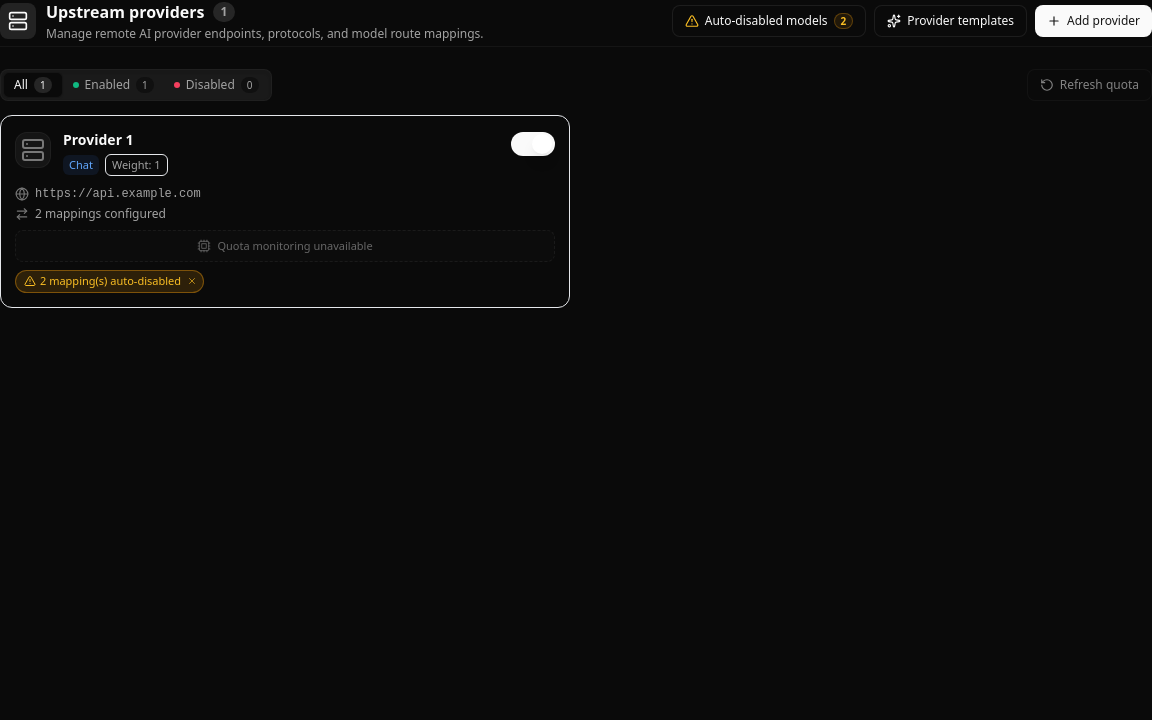
Auto-disabled models dialog entry › counts distinct local model ids and opens grouped sources
Step 1. Click the button with test id "ai-gateway-auto-disabled-models" → (769, 21), box left=672, top=5, right=866, bottom=37
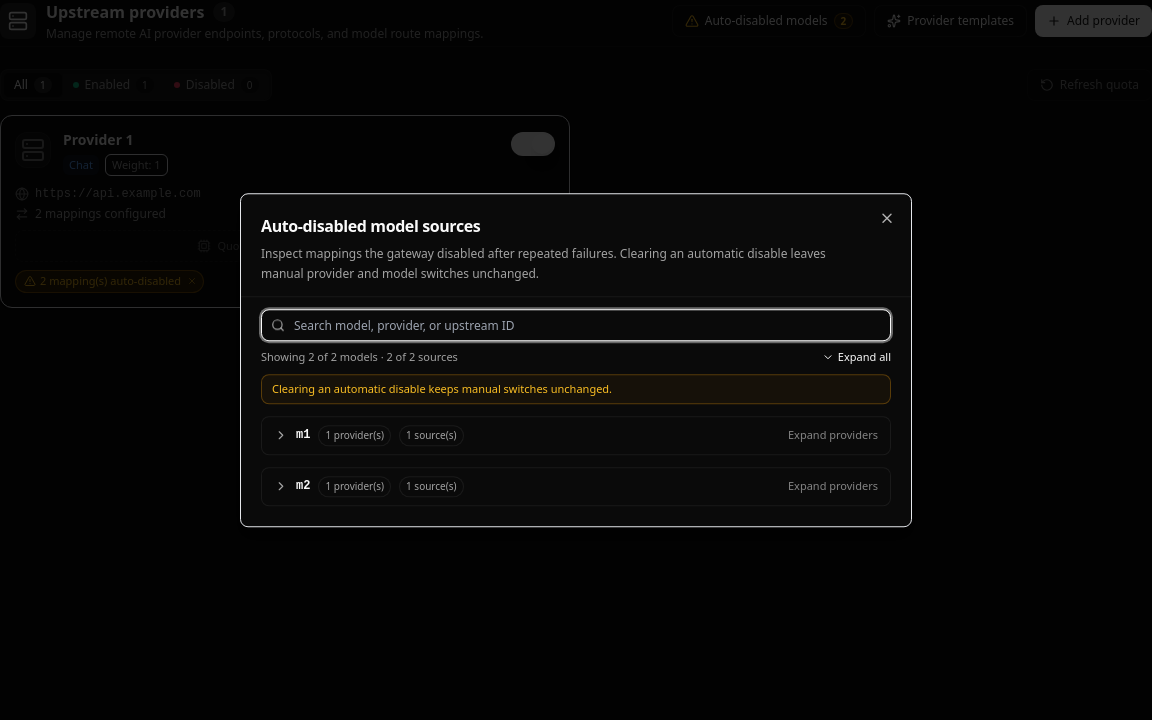
Result: the heading "m1" is shown at left=296, top=427, right=310, bottom=443
Result: the heading "m2" is shown at left=296, top=478, right=310, bottom=494
Expanding m1 reveals its sources and action
Step 2. Click the button with test id "ai-gateway-auto-disabled-model-toggle-m1" → (355, 435), box left=262, top=417, right=890, bottom=454
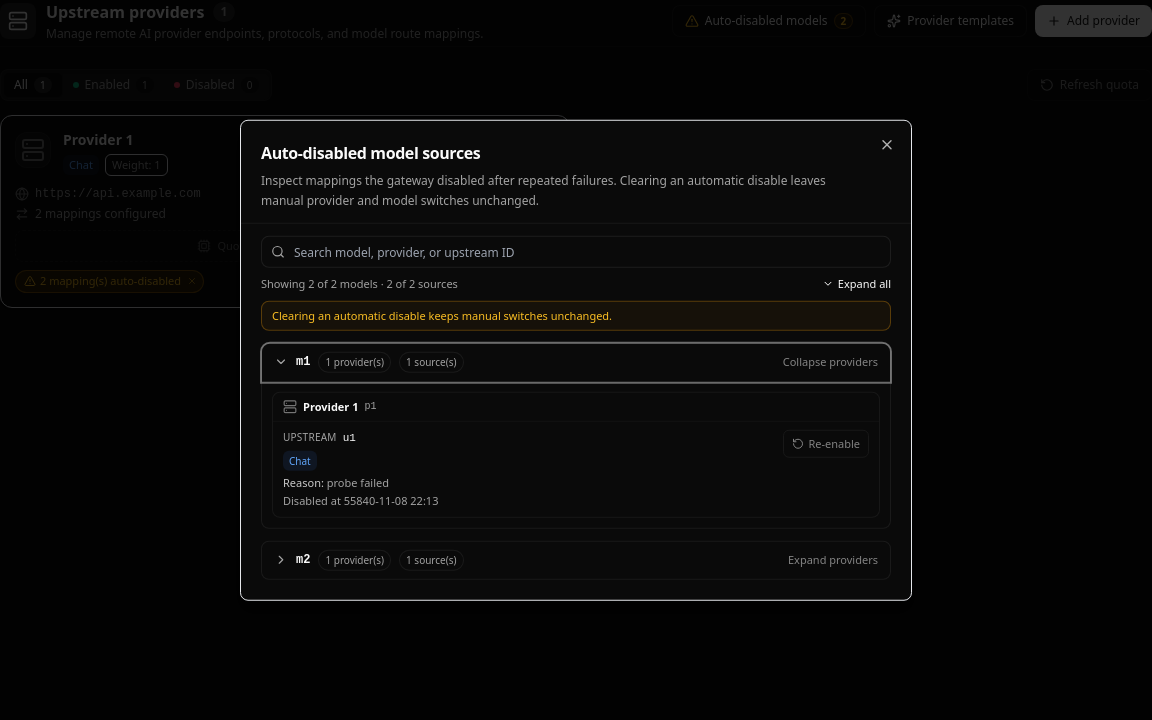
Result: the button "Re-enable" is shown at left=783, top=430, right=869, bottom=458
